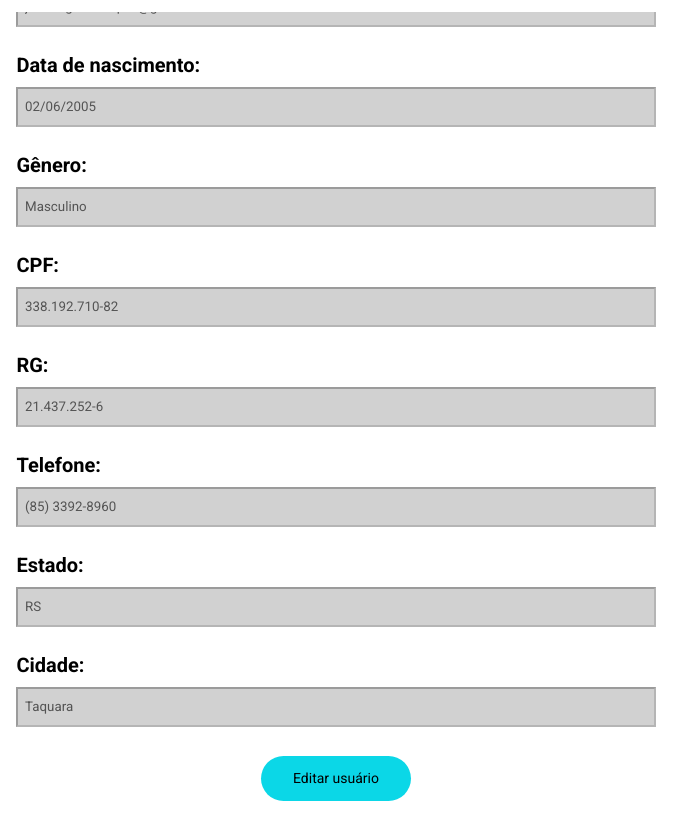
Test case: Profile › Render inputs actives
(page scrolled)
Click the button "Editar usuário": [336, 778] box left=261, top=756, right=411, bottom=800
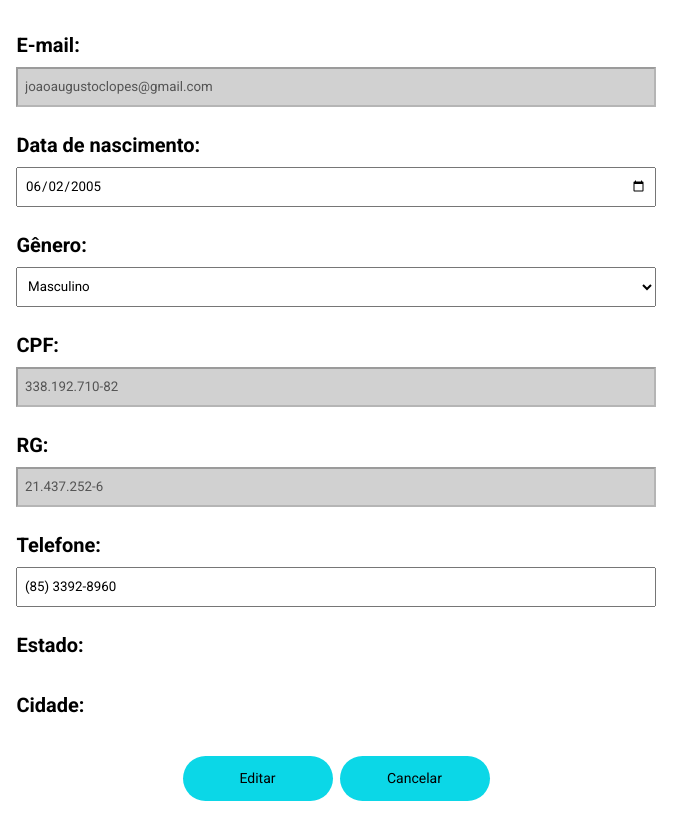
Expected: the date field with test id "birthday" is shown, left=16, top=166, right=656, bottom=206
Expected: the dropdown with test id "gender" is shown, left=16, top=266, right=656, bottom=306
Expected: the field with test id "phone" is shown, left=16, top=566, right=656, bottom=606
